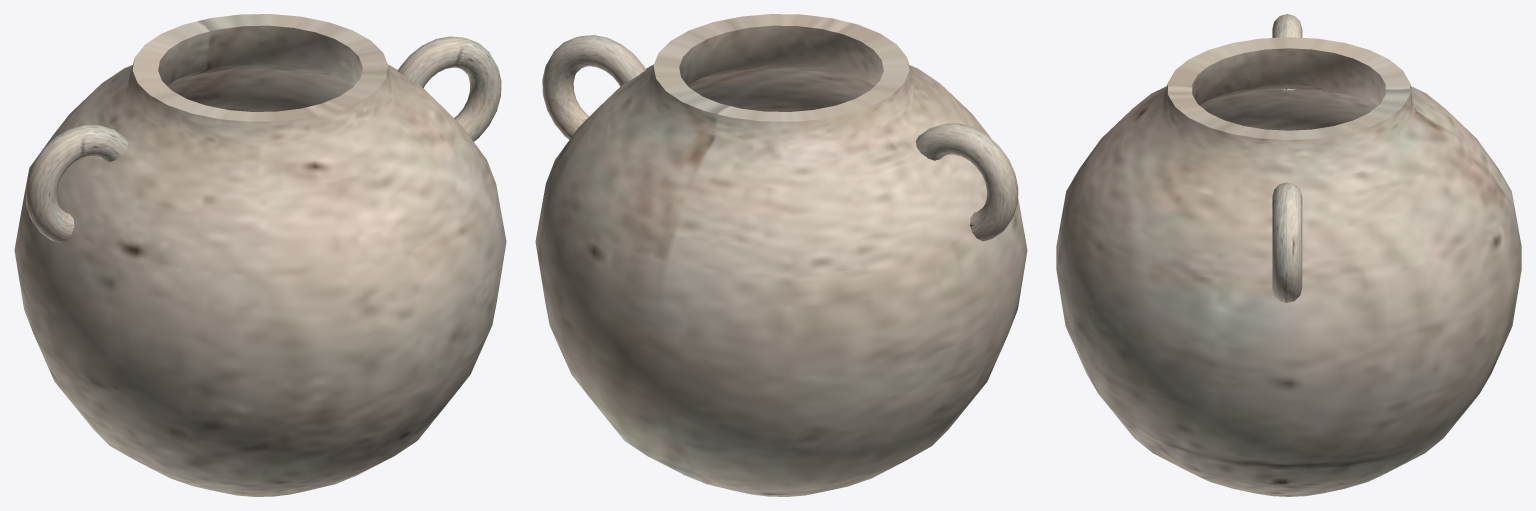
Rendered from 汉代陶瓷罐5.FBX.
3 renders of one model, left to right at view 1: azimuth 30°, elevation 25°; view 2: azimuth 150°, elevation 25°; view 3: azimuth 270°, elevation 25°, orthographic. The views are drawn at different scales.
Parts seen in each view (by area): view 1: Cylinder001, Torus002, Torus001; view 2: Cylinder001, Torus002, Torus001; view 3: Cylinder001, Torus001, Torus002.
Boxes of the visible parts, x1,y1,x2,y2 form: Cylinder001: (14,14,506,496); Torus002: (25,125,127,242); Torus001: (398,36,501,141); Cylinder001: (535,14,1027,496); Torus002: (915,123,1018,241); Torus001: (542,35,645,139); Cylinder001: (1056,37,1521,496); Torus001: (1272,182,1302,302); Torus002: (1272,14,1302,90).
Bounding box in the file's own units: 167 × 134 × 150.
Materials: 1 (1 with a texture image).
